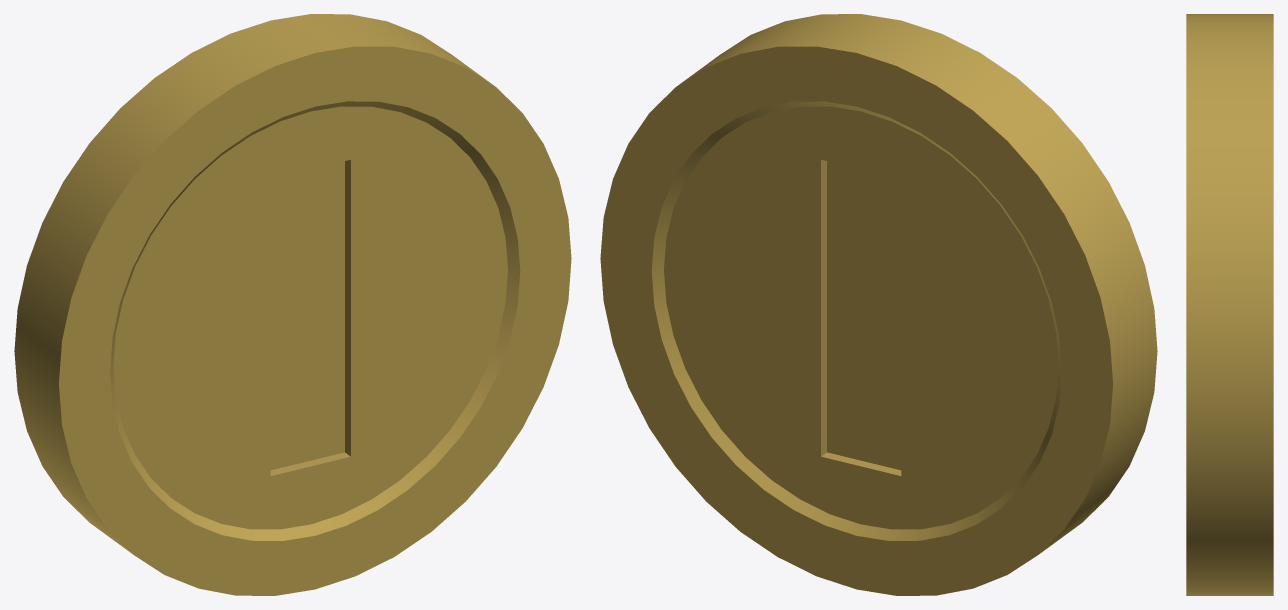
File: coin.glb
The picture shows the model from 3 angles, left to right: view 1: azimuth 30°, elevation 25°; view 2: azimuth 150°, elevation 25°; view 3: azimuth 270°, elevation 25°; orthographic projection.
Visible parts, largest first — view 1: Cylinder001; view 2: Cylinder001; view 3: Cylinder001.
Boxes of the visible parts, left/top/right/bottom form: Cylinder001: left=14, top=14, right=571, bottom=595; Cylinder001: left=600, top=14, right=1157, bottom=595; Cylinder001: left=1186, top=14, right=1273, bottom=595.
Bounding box in the file's own units: 0.5 × 0.5 × 0.075.
